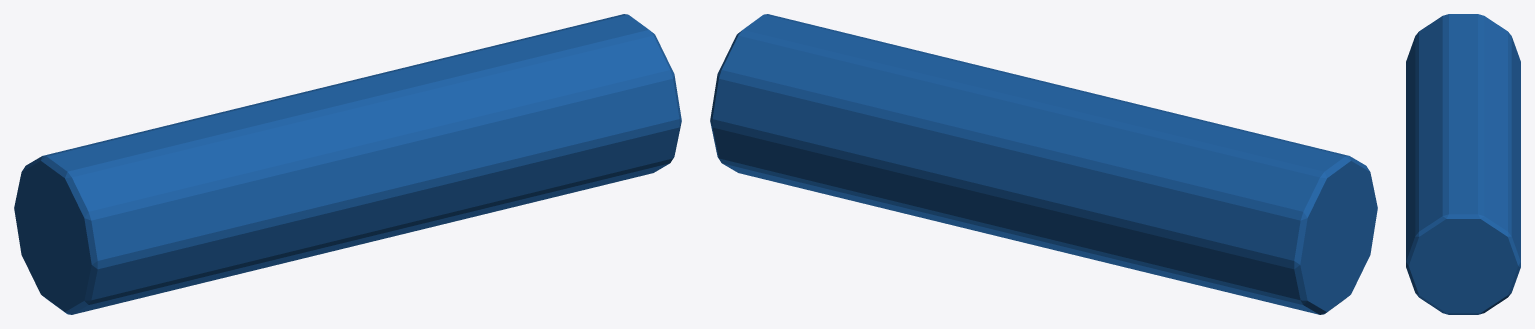
The model's file is water_pipe.glb.
The picture shows the model from 3 angles, left to right: view 1: azimuth 30°, elevation 25°; view 2: azimuth 150°, elevation 25°; view 3: azimuth 270°, elevation 25°; orthographic projection. The views are drawn at different scales.
Parts seen in each view (by area): view 1: water_pipe; view 2: water_pipe; view 3: water_pipe.
Part boxes in pixels (x1,y1,x2,y2): water_pipe: [14, 14, 681, 314]; water_pipe: [710, 14, 1377, 314]; water_pipe: [1406, 14, 1520, 314].
Size of the model in its own units: 0.7 by 0.1617 by 0.1669.
